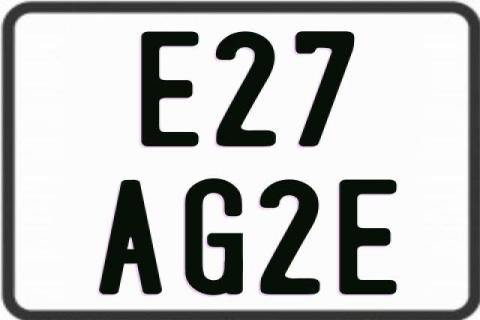0: (294, 29, 358, 147), (215, 32, 275, 152), (259, 180, 320, 296)
A: (99, 179, 167, 295)
E: (138, 29, 200, 149), (336, 179, 394, 297)
G: (182, 179, 241, 297)
